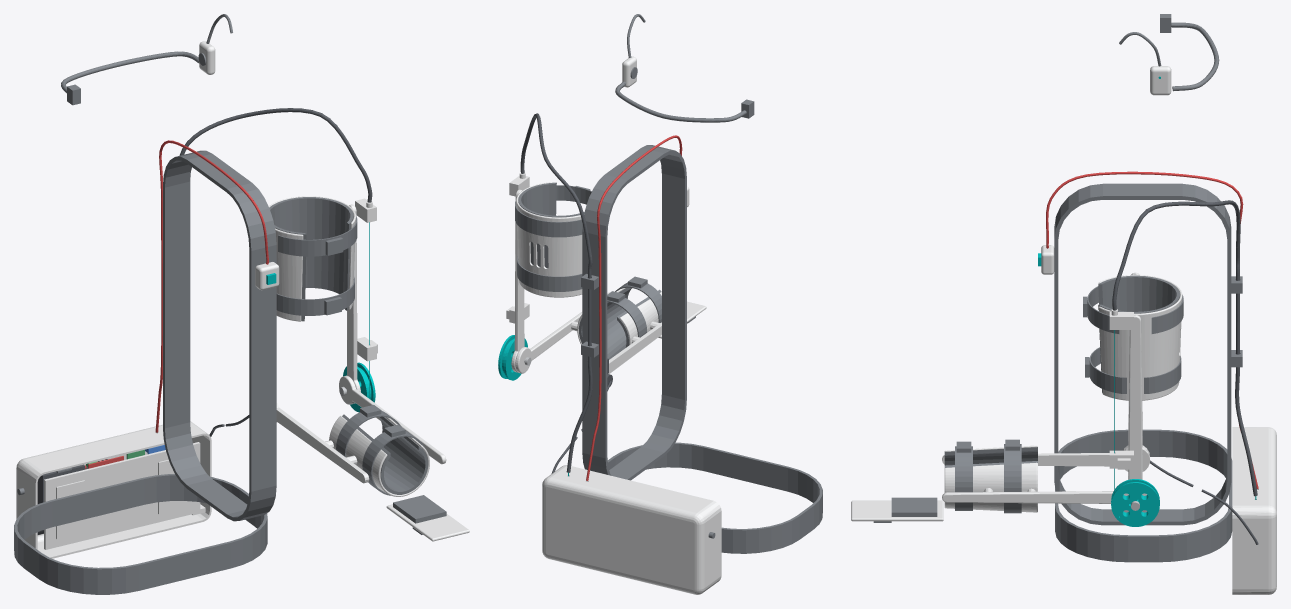
File: gesture-exosuit.glb
3 renders of one model, left to right at view 1: azimuth 30°, elevation 25°; view 2: azimuth 150°, elevation 25°; view 3: azimuth 270°, elevation 25°, orthographic. The views are drawn at different scales.
Parts seen in each view (by area): view 1: gesture-exosuit; view 2: gesture-exosuit; view 3: gesture-exosuit.
Part boxes in pixels (x1,y1,x2,y2): gesture-exosuit: (14,14,469,594); gesture-exosuit: (498,14,822,594); gesture-exosuit: (851,14,1276,594).
Size of the model in its own units: 0.474 by 0.7459 by 0.524.
